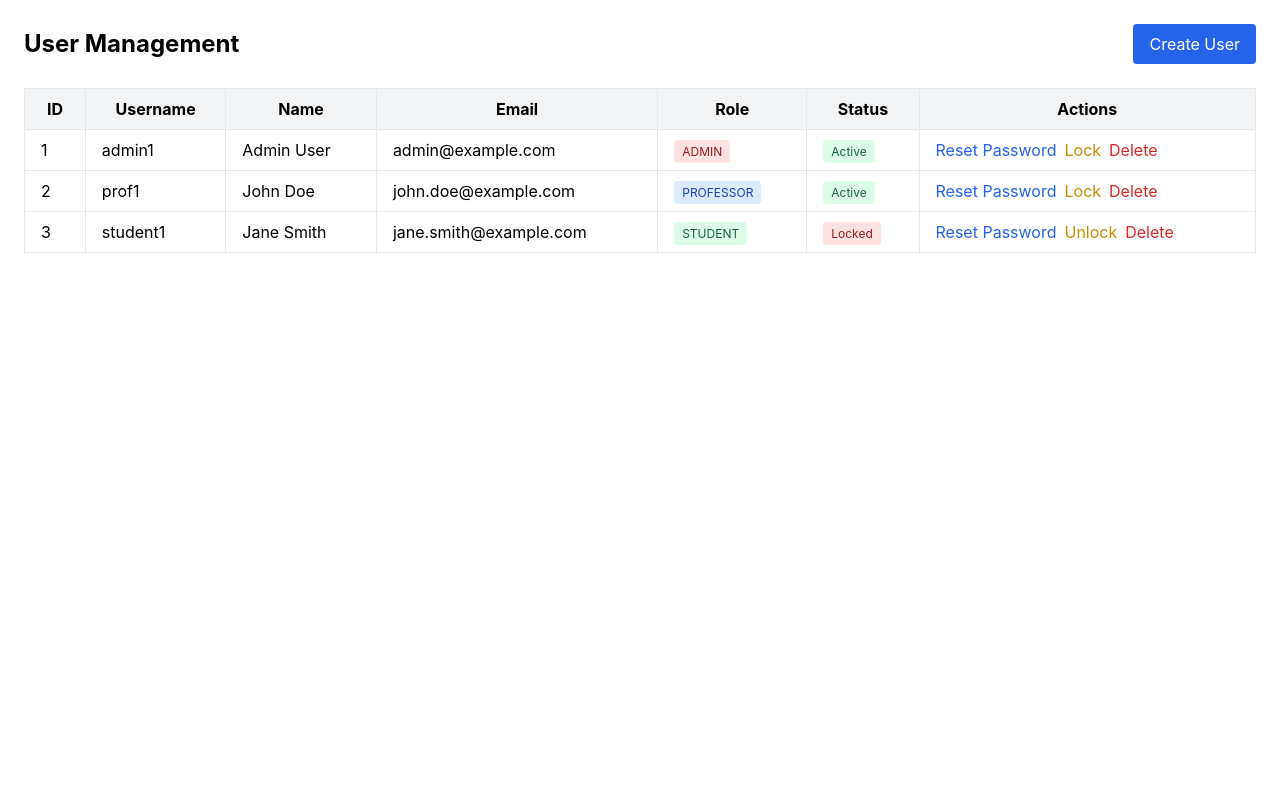
UserManagement Tests › closes modal when Cancel is clicked
The width and height of the screenshot is (1280, 800).
Expected: the heading "User Management" is shown, [24,28,239,60]
Click the button "Create User": (1195, 44) [1134,24,1256,64]
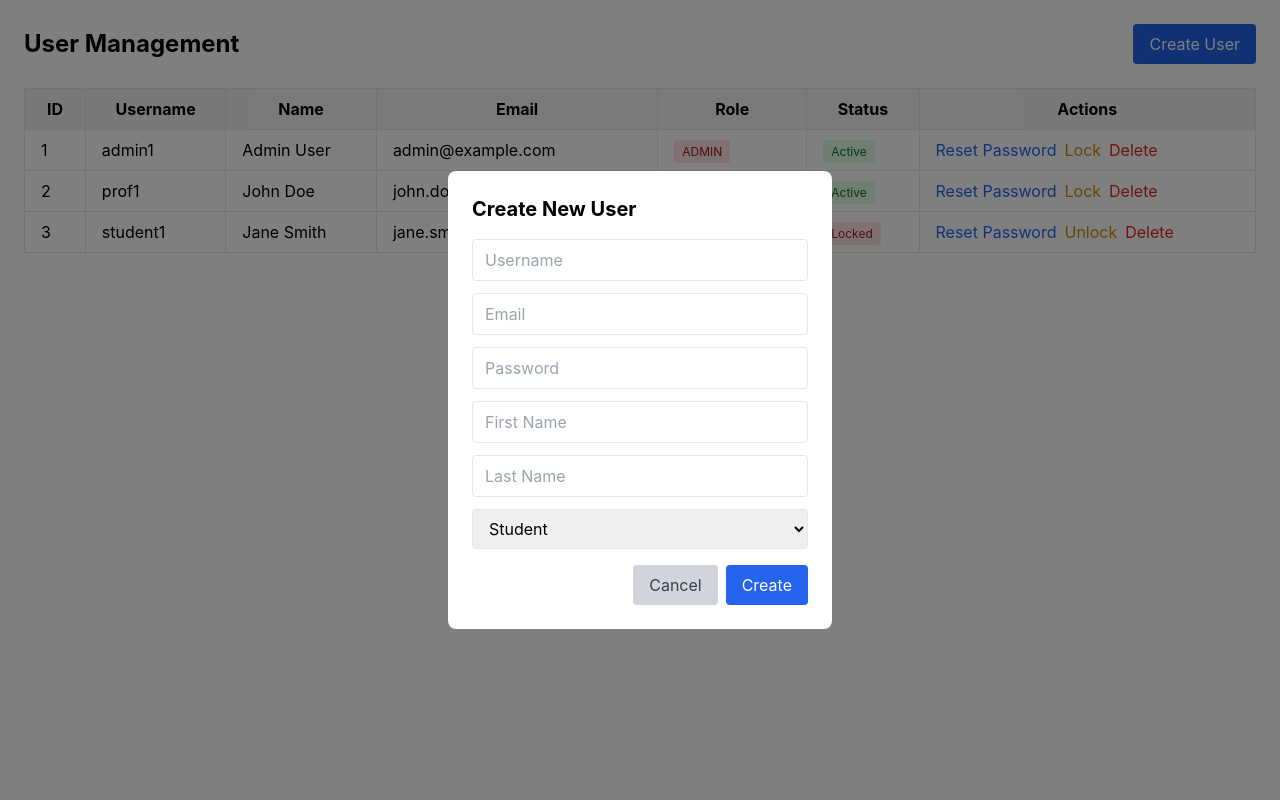
Now the heading "Create New User" is shown, box [472,197,636,221]
Click the button "Cancel": (675, 585) [633,565,718,605]
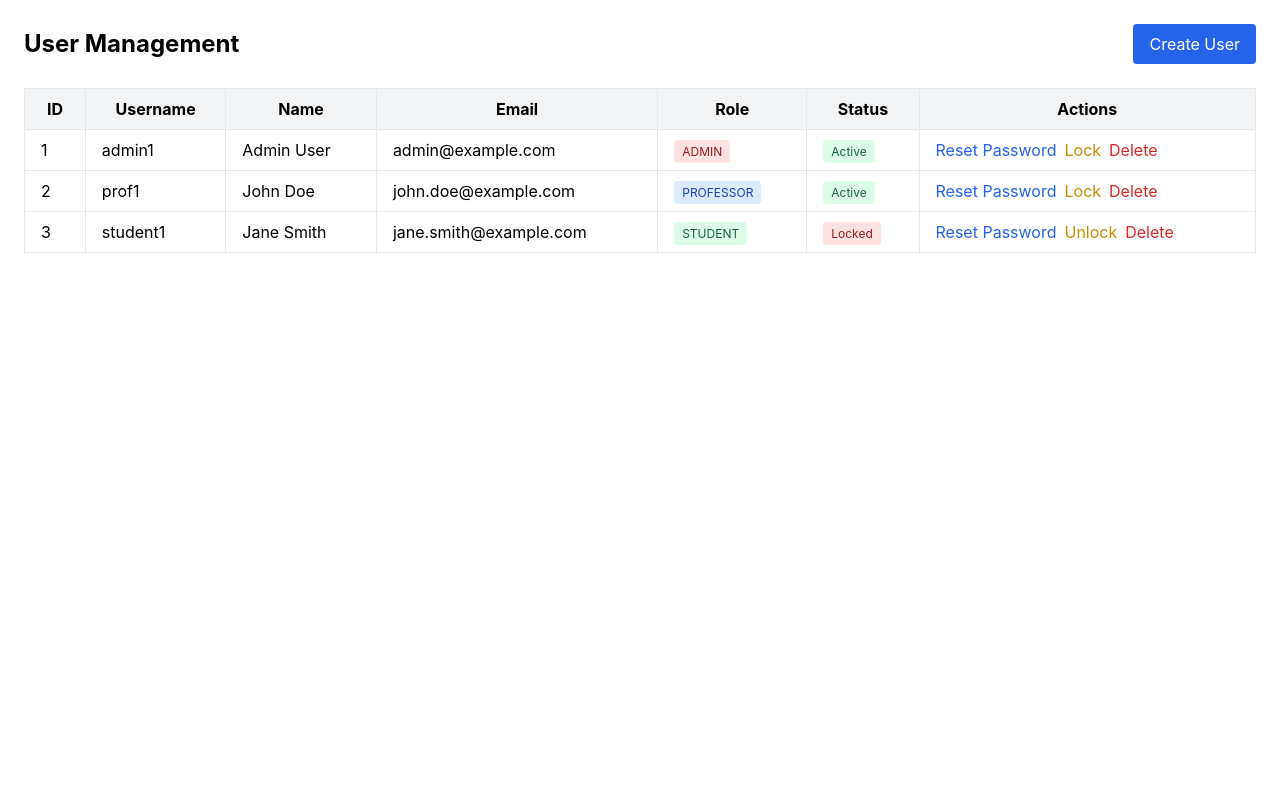
Now the heading "Create New User" is gone
